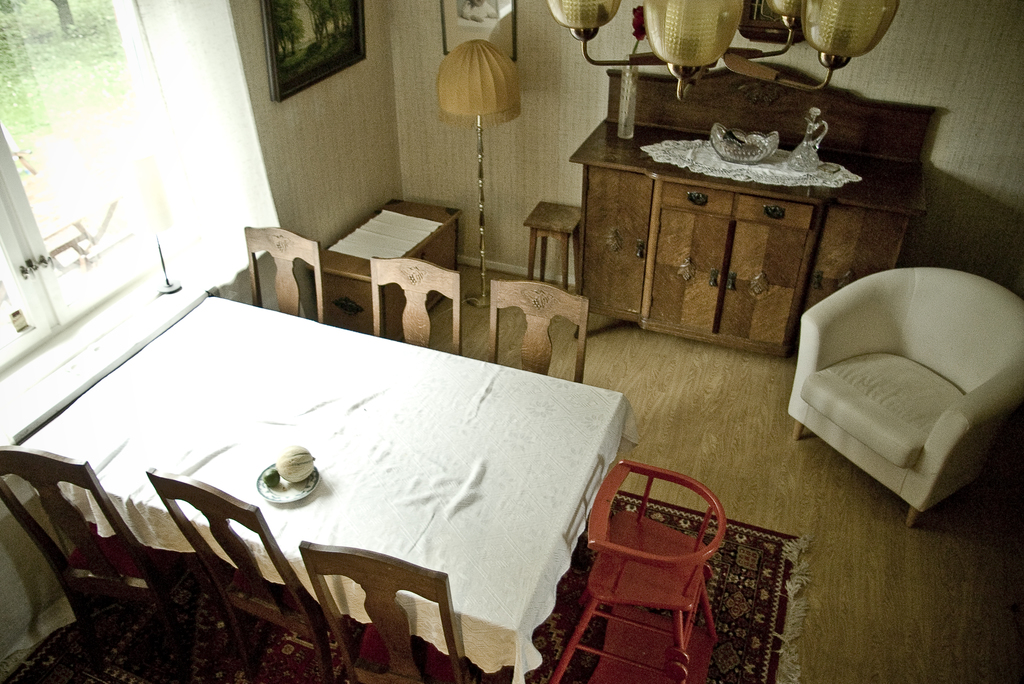Cabinetry: (572, 70, 887, 395), (307, 199, 459, 336)
